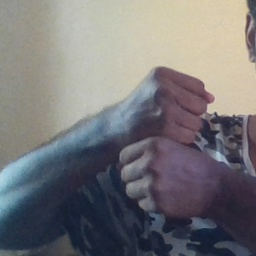G: (118, 61, 218, 221)
